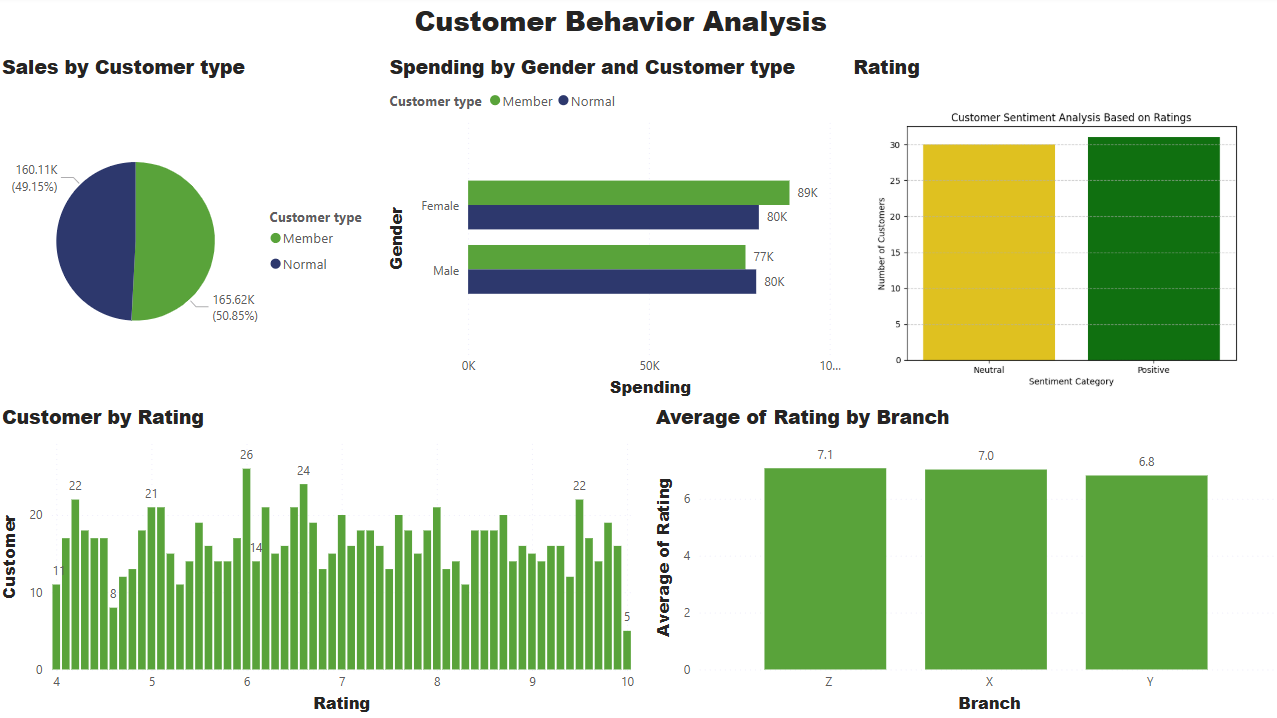

The dashboard page shown, as its layout file describes it:
{"tool":"powerbi","page":{"name":"Customer Behavior Analysis","canvas":[1280,720],"ordinal":1},"visuals":[{"type":"pieChart","fields":{"Category":["RetailStore Dataset.Customer type"],"Y":["Sum(RetailStore Dataset.Total)"]},"box":[0,57.4,385.2,347.8],"z":0},{"type":"clusteredBarChart","fields":{"Category":["RetailStore Dataset.Gender"],"Y":["Sum(RetailStore Dataset.Total)"],"Series":["RetailStore Dataset.Customer type"]},"box":[385.2,57.4,461.3,347.8],"z":1000},{"type":"columnChart","fields":{"Category":["RetailStore Dataset.Rating"],"Y":["CountNonNull(RetailStore Dataset.Rating)"]},"box":[0,405.7,640,314.3],"z":2000},{"type":"clusteredColumnChart","fields":{"Category":["RetailStore Dataset.Branch"],"Y":["Avg(RetailStore Dataset.Rating)"]},"box":[650,405.7,630,314.3],"z":3000},{"type":"textbox","box":[410,0,461.4,57.1],"z":4000},{"type":"pythonVisual","fields":{"Values":["RetailStore Dataset.Rating"]},"box":[846.7,57.3,433.3,348],"z":5000}]}

Visuals, with their boxes in screenshot pixels (x1, y1, x2, y2), scaled from the page's 1280x720 canvas onto the 1277x718 screenshot:
pieChart - RetailStore Dataset.Customer type x Sum(RetailStore Dataset.Total): bbox(0, 57, 384, 404)
clusteredBarChart - RetailStore Dataset.Gender x Sum(RetailStore Dataset.Total): bbox(384, 57, 845, 404)
columnChart - RetailStore Dataset.Rating x CountNonNull(RetailStore Dataset.Rating): bbox(0, 405, 638, 717)
clusteredColumnChart - RetailStore Dataset.Branch x Avg(RetailStore Dataset.Rating): bbox(648, 405, 1276, 717)
textbox: bbox(409, 0, 869, 57)
pythonVisual - RetailStore Dataset.Rating: bbox(845, 57, 1276, 404)
